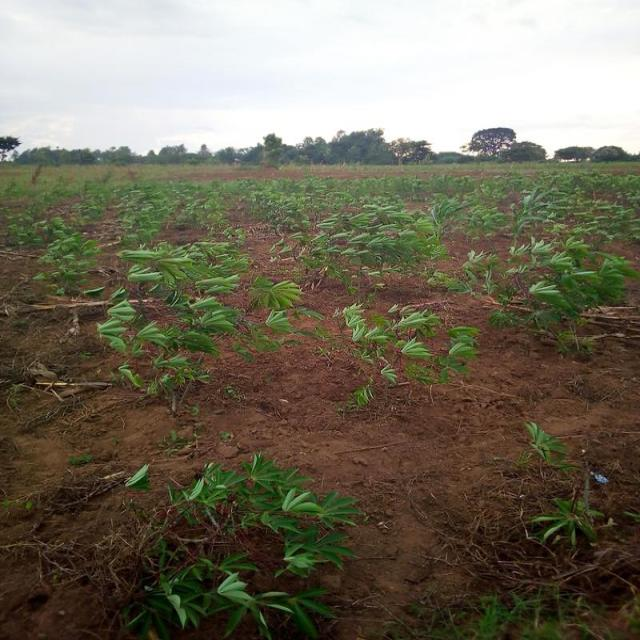cassava leaf: (126, 462, 152, 489)
